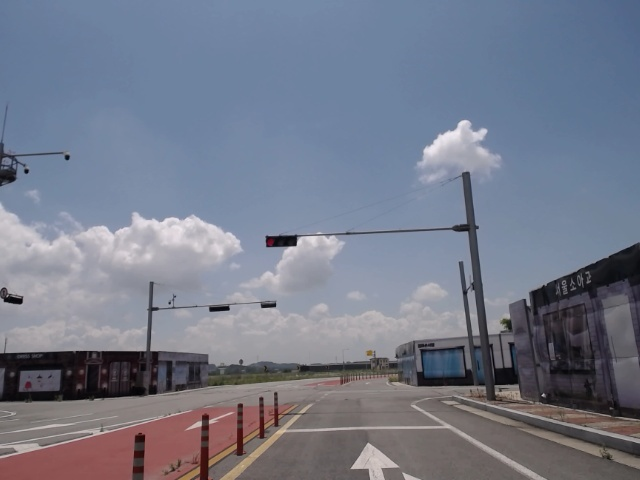red_3: (263, 233, 300, 247)
